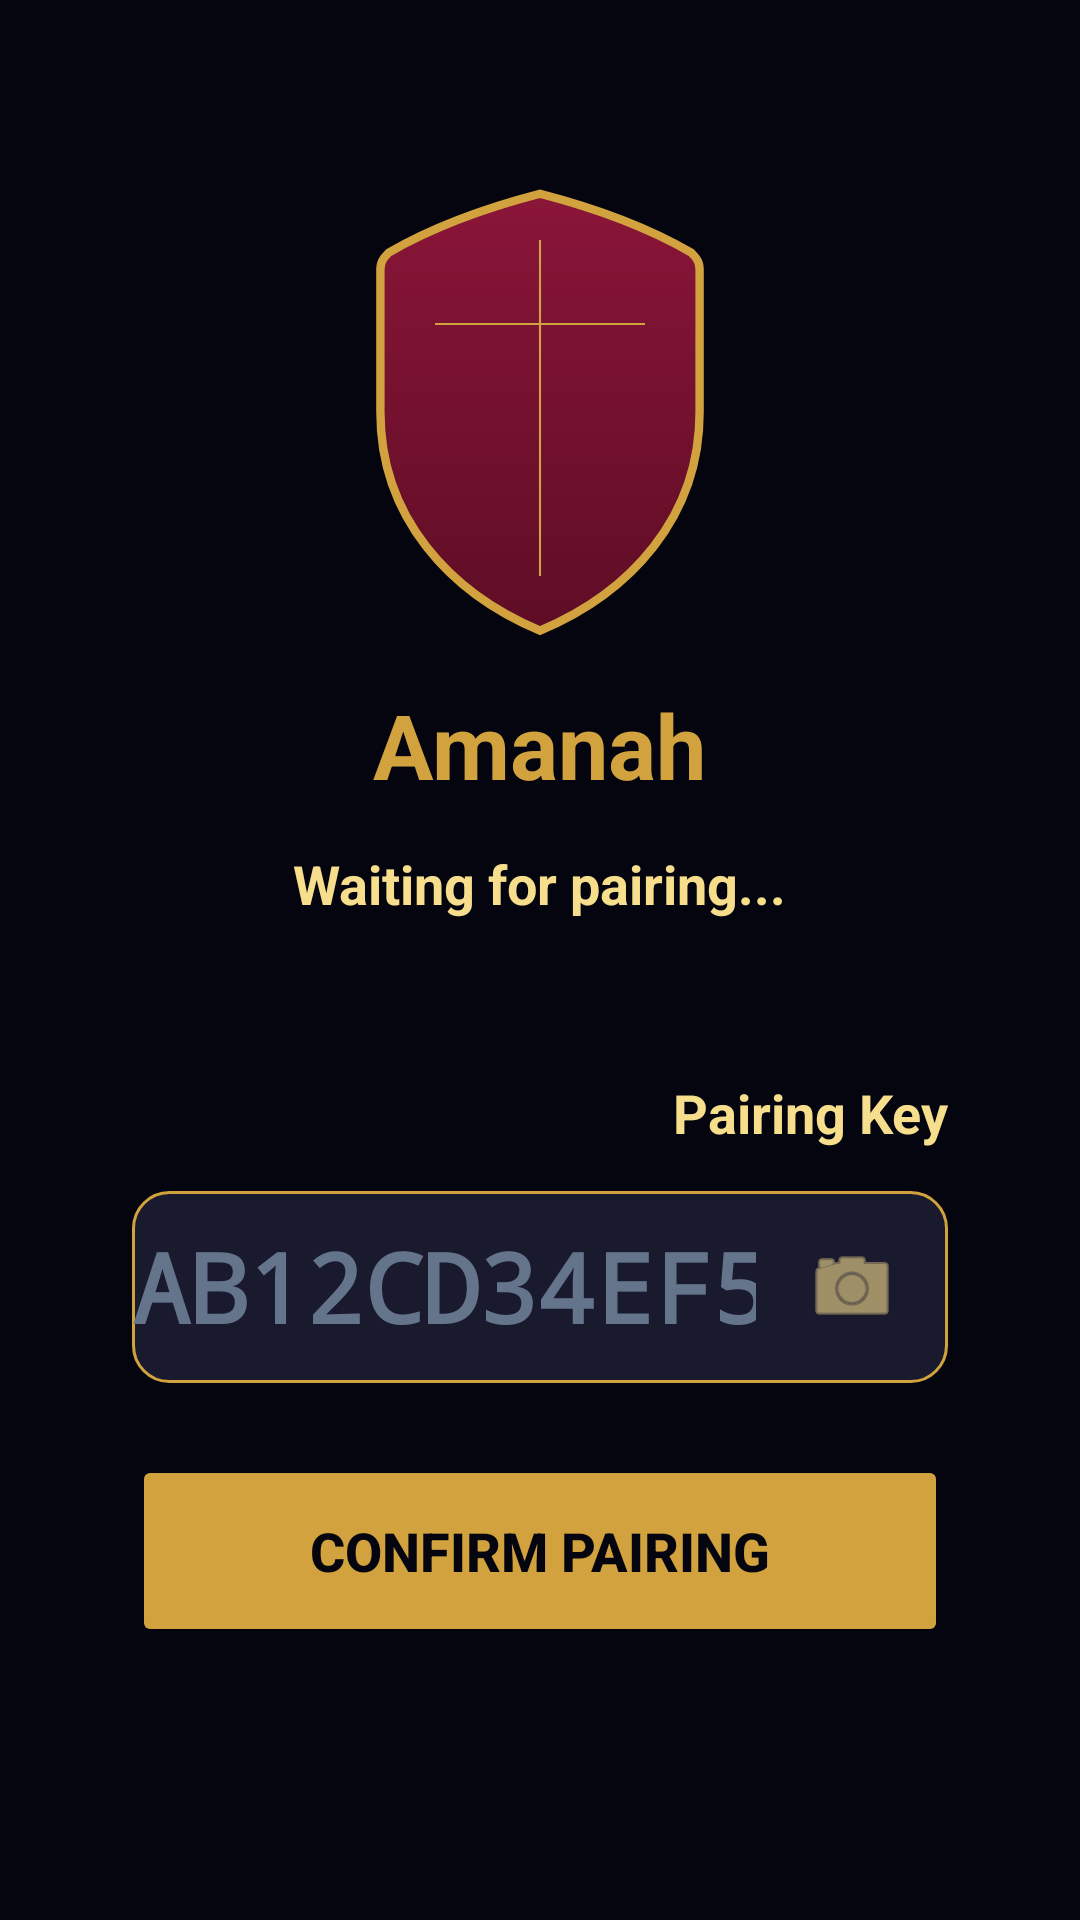

Locate icon controls on the screen. Image size 1080 x 1920, boxes as (left=x1, top=y1, right=x2, bottom=y2).
Scan QR: (left=815, top=1256, right=889, bottom=1315)
